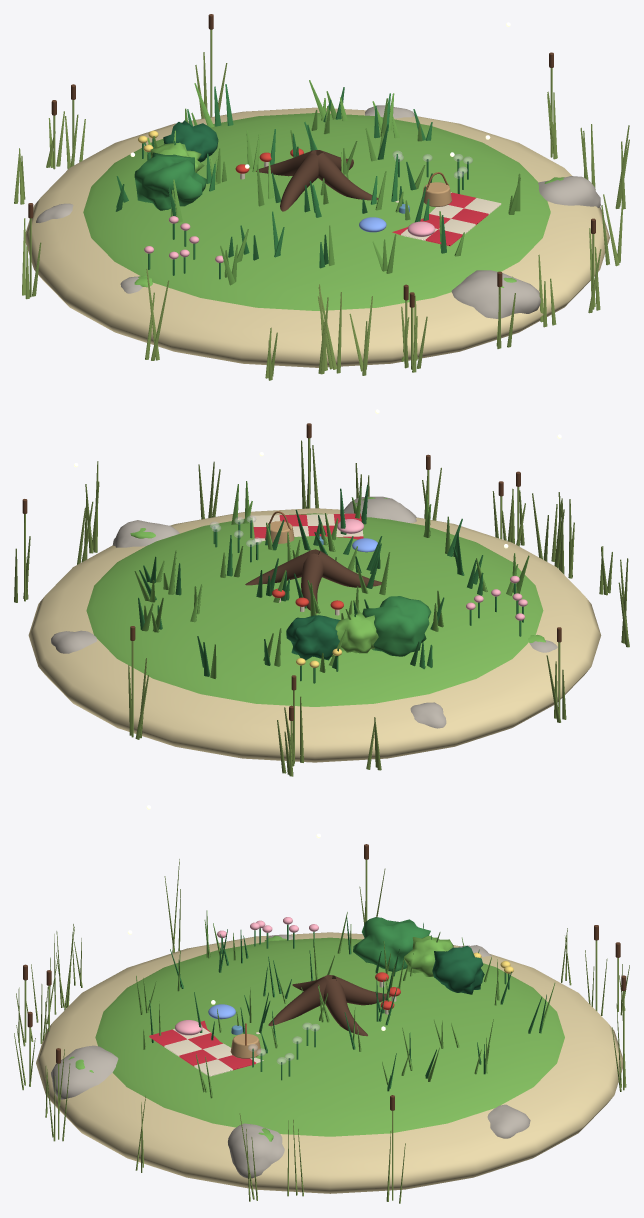
Rendered from islet_04.glb.
3 views of the same model, one above another, from view 1: azimuth 30°, elevation 25°; view 2: azimuth 150°, elevation 25°; view 3: azimuth 270°, elevation 25° (orthographic). The views are drawn at different scales.
Visible parts, largest first — view 1: islet_grass.004, islet_sand.004, bush.014, rock.026, rock.024, bush.012, root.019, root.018, basket, root.017, bush.013; view 2: islet_grass.004, islet_sand.004, bush.014, bush.012, bush.013, rock.026, rock.024, root.018, root.017, rock.027, root.016, rock.025; view 3: islet_grass.004, islet_sand.004, bush.014, rock.026, rock.024, bush.012, bush.013, root.016, root.019, rock.027, root.017, basket.
Boxes of the visible parts, left/top/right/bottom form: islet_grass.004: left=83, top=113, right=550, bottom=310; islet_sand.004: left=25, top=107, right=609, bottom=367; bush.014: left=134, top=152, right=206, bottom=210; rock.026: left=451, top=270, right=540, bottom=318; rock.024: left=538, top=176, right=600, bottom=207; bush.012: left=163, top=120, right=218, bottom=162; root.019: left=316, top=152, right=378, bottom=200; root.018: left=280, top=153, right=319, bottom=211; basket: left=422, top=182, right=451, bottom=206; root.017: left=256, top=150, right=316, bottom=176; bush.013: left=150, top=142, right=204, bottom=172; islet_grass.004: left=86, top=513, right=543, bottom=706; islet_sand.004: left=28, top=508, right=601, bottom=762; bush.014: left=362, top=596, right=431, bottom=656; bush.012: left=286, top=615, right=340, bottom=660; bush.013: left=335, top=612, right=378, bottom=653; rock.026: left=344, top=496, right=416, bottom=523; rock.024: left=113, top=520, right=179, bottom=547; root.018: left=318, top=550, right=381, bottom=587; root.017: left=301, top=553, right=323, bottom=613; rock.027: left=51, top=630, right=96, bottom=653; root.016: left=245, top=550, right=311, bottom=585; rock.025: left=410, top=702, right=446, bottom=728; islet_grass.004: left=95, top=937, right=564, bottom=1136; islet_sand.004: left=36, top=932, right=622, bottom=1193; bush.014: left=353, top=917, right=430, bottom=971; rock.026: left=51, top=1045, right=118, bottom=1099; rock.024: left=228, top=1123, right=284, bottom=1178; bush.012: left=432, top=946, right=484, bottom=994; bush.013: left=404, top=935, right=453, bottom=976; root.016: left=323, top=979, right=367, bottom=1036; root.019: left=268, top=976, right=328, bottom=1026; rock.027: left=487, top=1104, right=530, bottom=1138; root.017: left=332, top=975, right=390, bottom=1005; basket: left=230, top=1034, right=260, bottom=1058.
Size of the model in its own units: 8.2 by 3.16 by 7.95.
